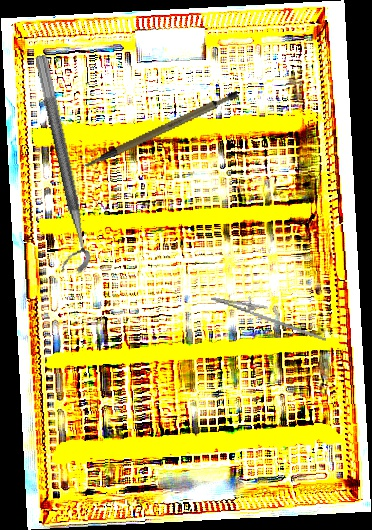Fixation Ring: (17, 54, 94, 277)
Needle Holder: (207, 287, 332, 342)
Scalpel Handle: (73, 87, 247, 170)
